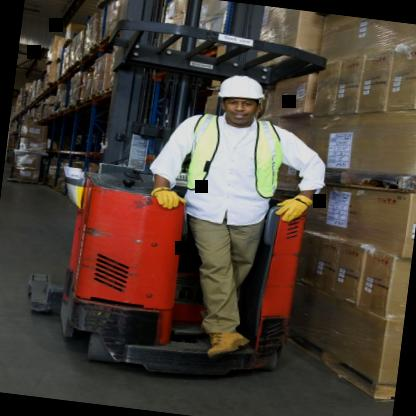helmet: (209, 69, 271, 127)
